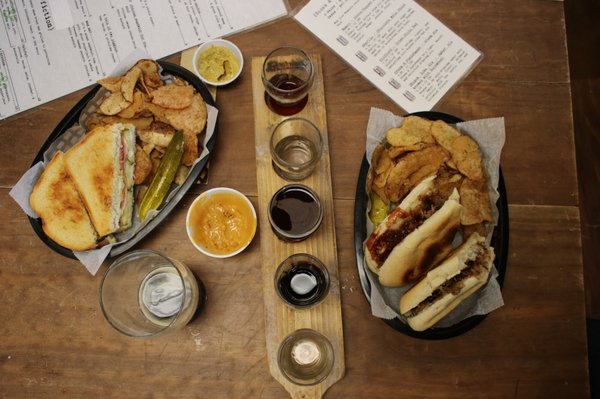pizza: (261, 45, 315, 115), (269, 117, 325, 182), (268, 183, 324, 242)
soup: (28, 121, 137, 252), (364, 162, 465, 287), (62, 121, 137, 245)
sushi: (185, 187, 257, 259), (269, 184, 324, 242), (193, 39, 244, 88)
